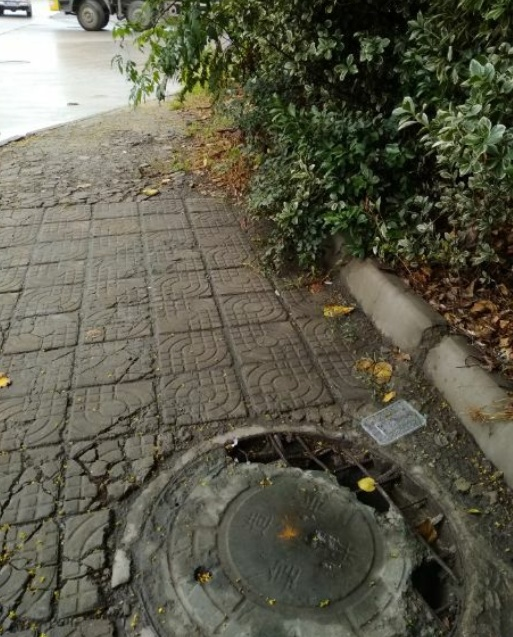broke: (104, 422, 471, 637)
